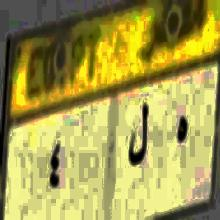4: (49, 138, 61, 191)
haa: (173, 109, 190, 156)
laam: (126, 104, 150, 172)
